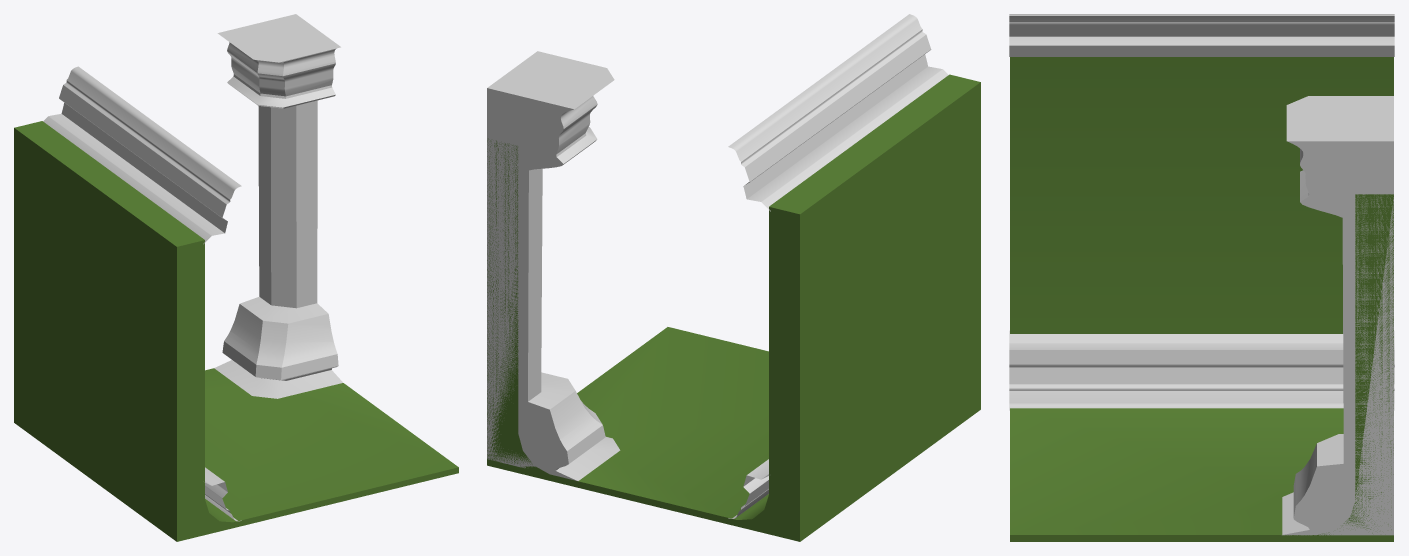
The model's file is Tileset_Piece_29.fbx.
3 views of the same model, side by side, from view 1: azimuth 30°, elevation 25°; view 2: azimuth 150°, elevation 25°; view 3: azimuth 270°, elevation 25° (orthographic). The views are drawn at different scales.
Parts seen in each view (by area): view 1: Tileset_Piece_29; view 2: Tileset_Piece_29; view 3: Tileset_Piece_29.
Part boxes in pixels (left/top/right/bottom): Tileset_Piece_29: left=14, top=14, right=458, bottom=541; Tileset_Piece_29: left=487, top=14, right=980, bottom=541; Tileset_Piece_29: left=1009, top=14, right=1394, bottom=541.
Size of the model in its own units: 100 by 115 by 100.
